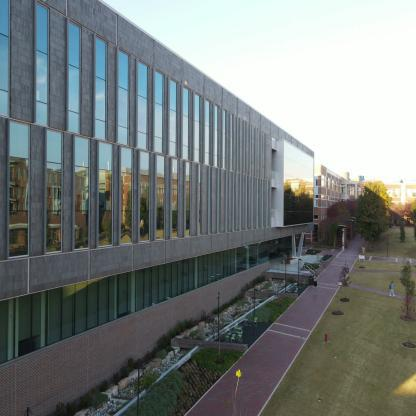EB-1: (318, 158, 384, 256)
Fitts- Woolard: (0, 0, 314, 416)
